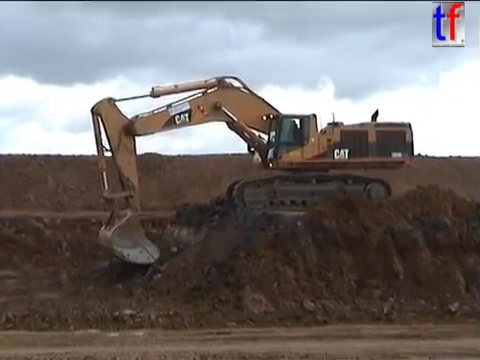excavator: (86, 73, 417, 268)
